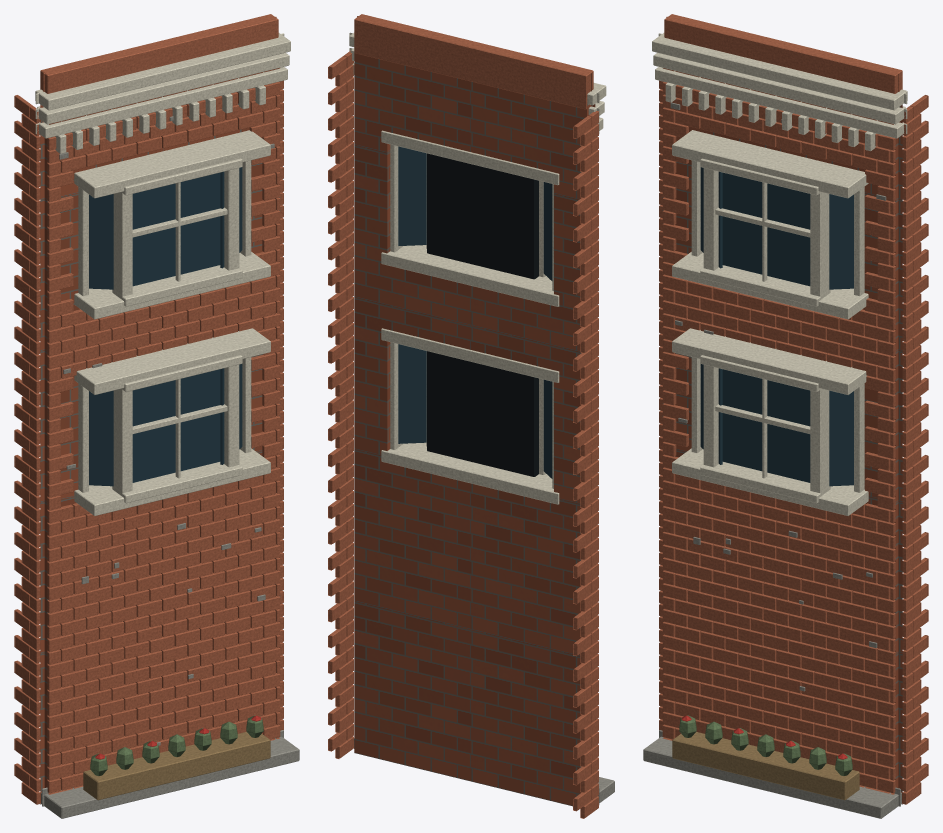
Rendered from VICT17_lod0.glb.
3 renders of one model, left to right at view 1: azimuth 30°, elevation 25°; view 2: azimuth 150°, elevation 25°; view 3: azimuth 330°, elevation 25°, orthographic.
Visible parts, largest first — view 1: VICT17_FRONT_LOD0; view 2: VICT17_FRONT_LOD0; view 3: VICT17_FRONT_LOD0.
Boxes of the visible parts, box(x1,y1,x2,y2) form: VICT17_FRONT_LOD0: box(14, 14, 299, 818); VICT17_FRONT_LOD0: box(328, 14, 614, 818); VICT17_FRONT_LOD0: box(643, 14, 928, 818).
Bounding box in the file's own units: 3.44 × 9.66 × 1.11.
Materials: 12 (10 with a texture image).
